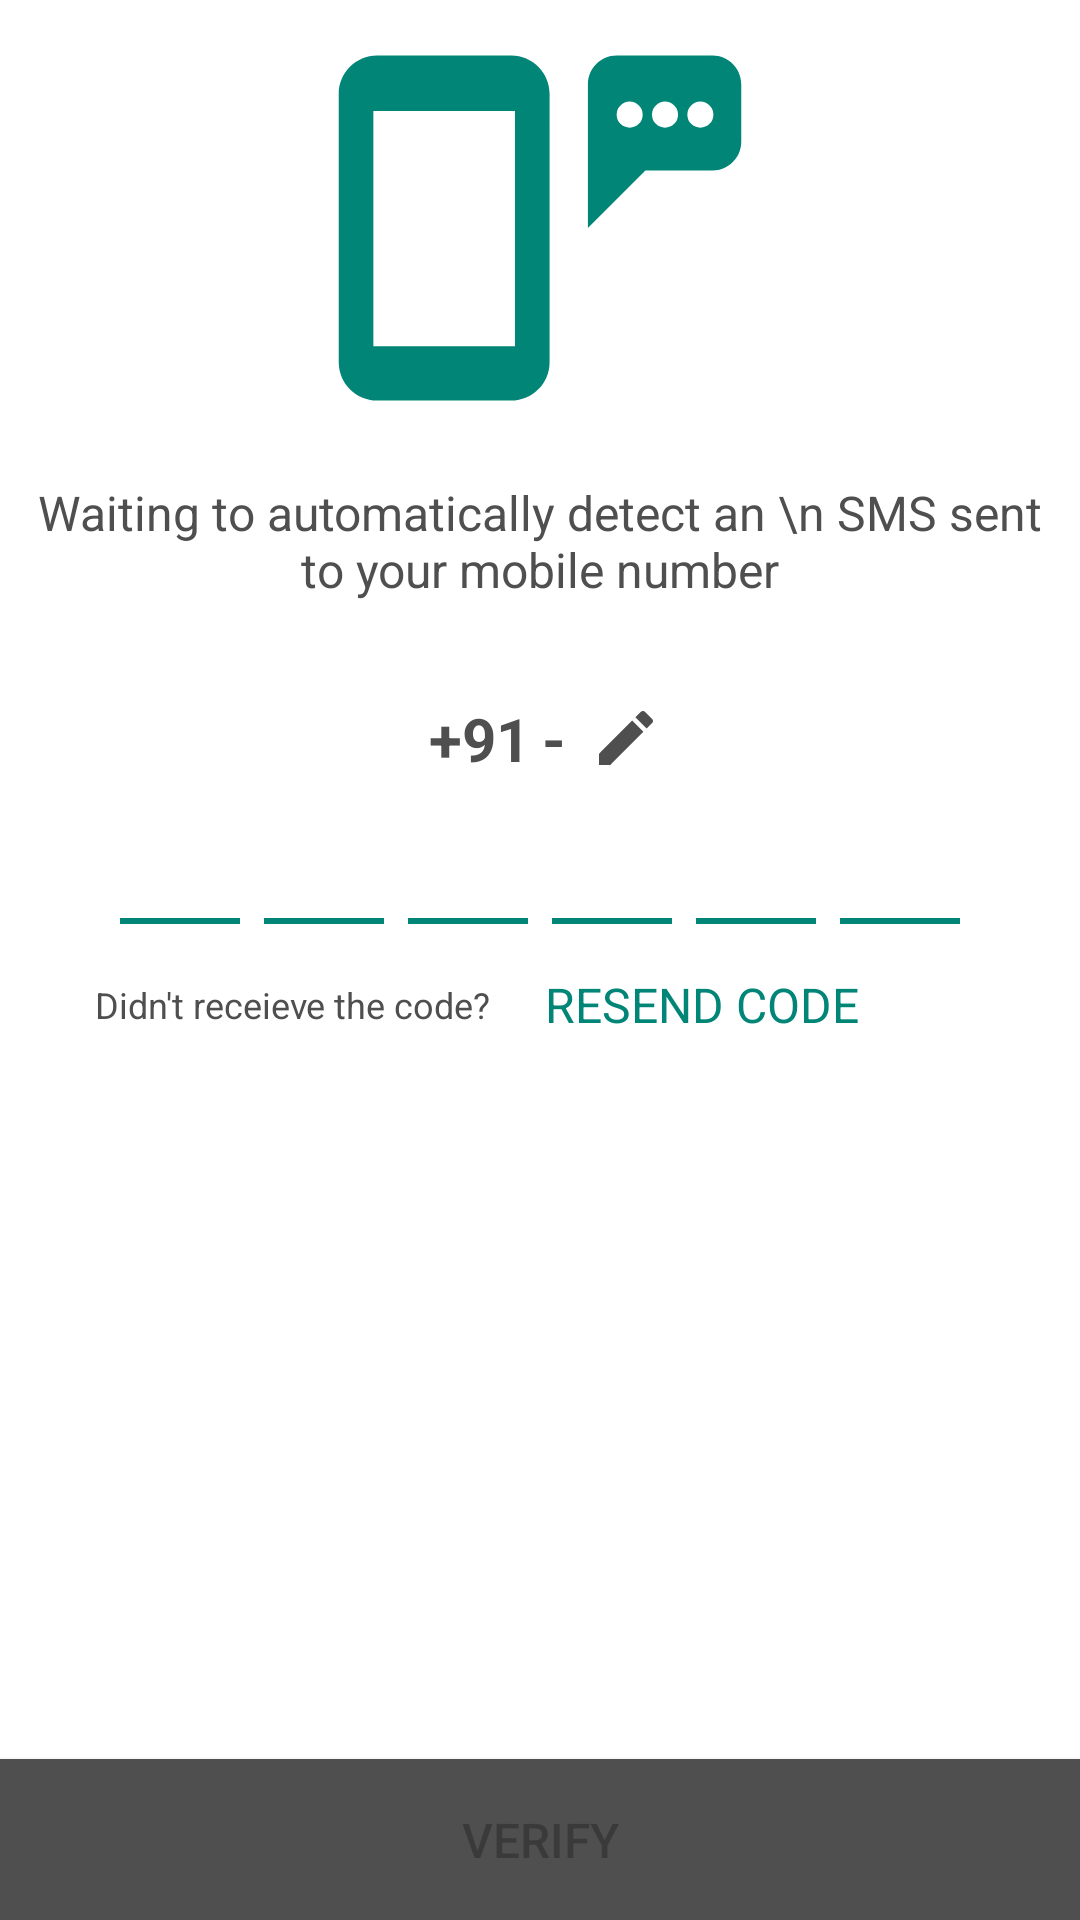

Where icons sit on this 1080×1920 app screen, as (x1, y1, x2, y2):
pencil: (599, 711, 653, 765)
